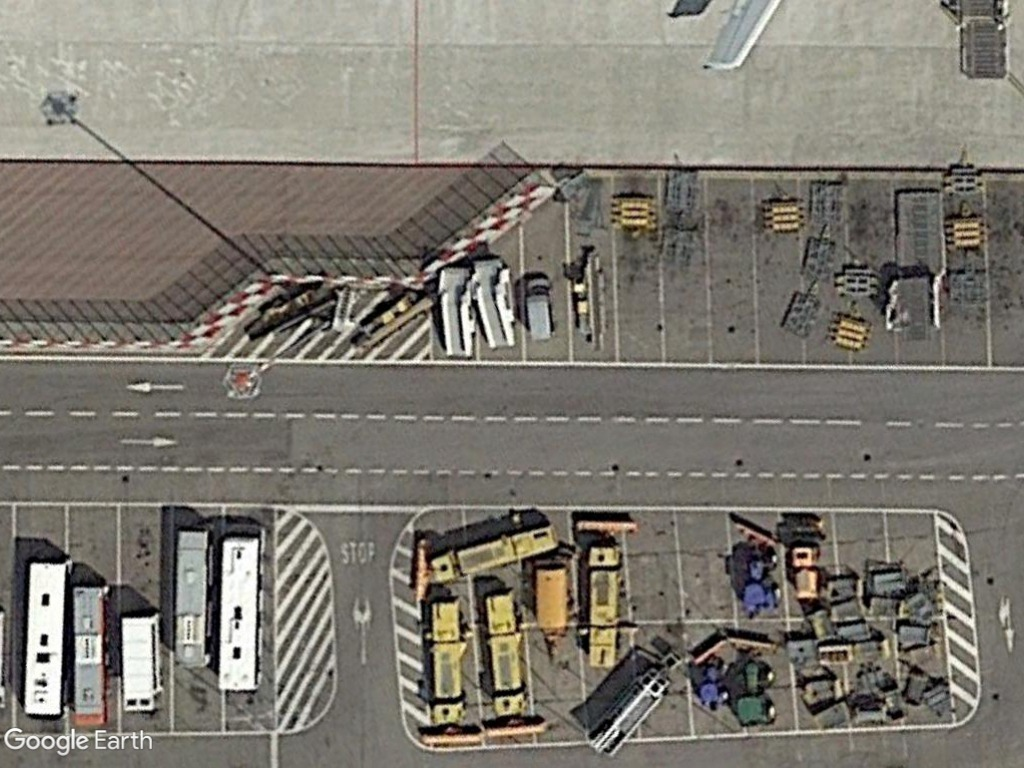bus: (211, 522, 266, 698), (23, 556, 68, 724), (170, 524, 219, 672), (68, 576, 113, 730)
other: (116, 608, 165, 716)
stairtruck: (472, 253, 521, 353), (436, 264, 477, 361)
van: (523, 271, 553, 344)
